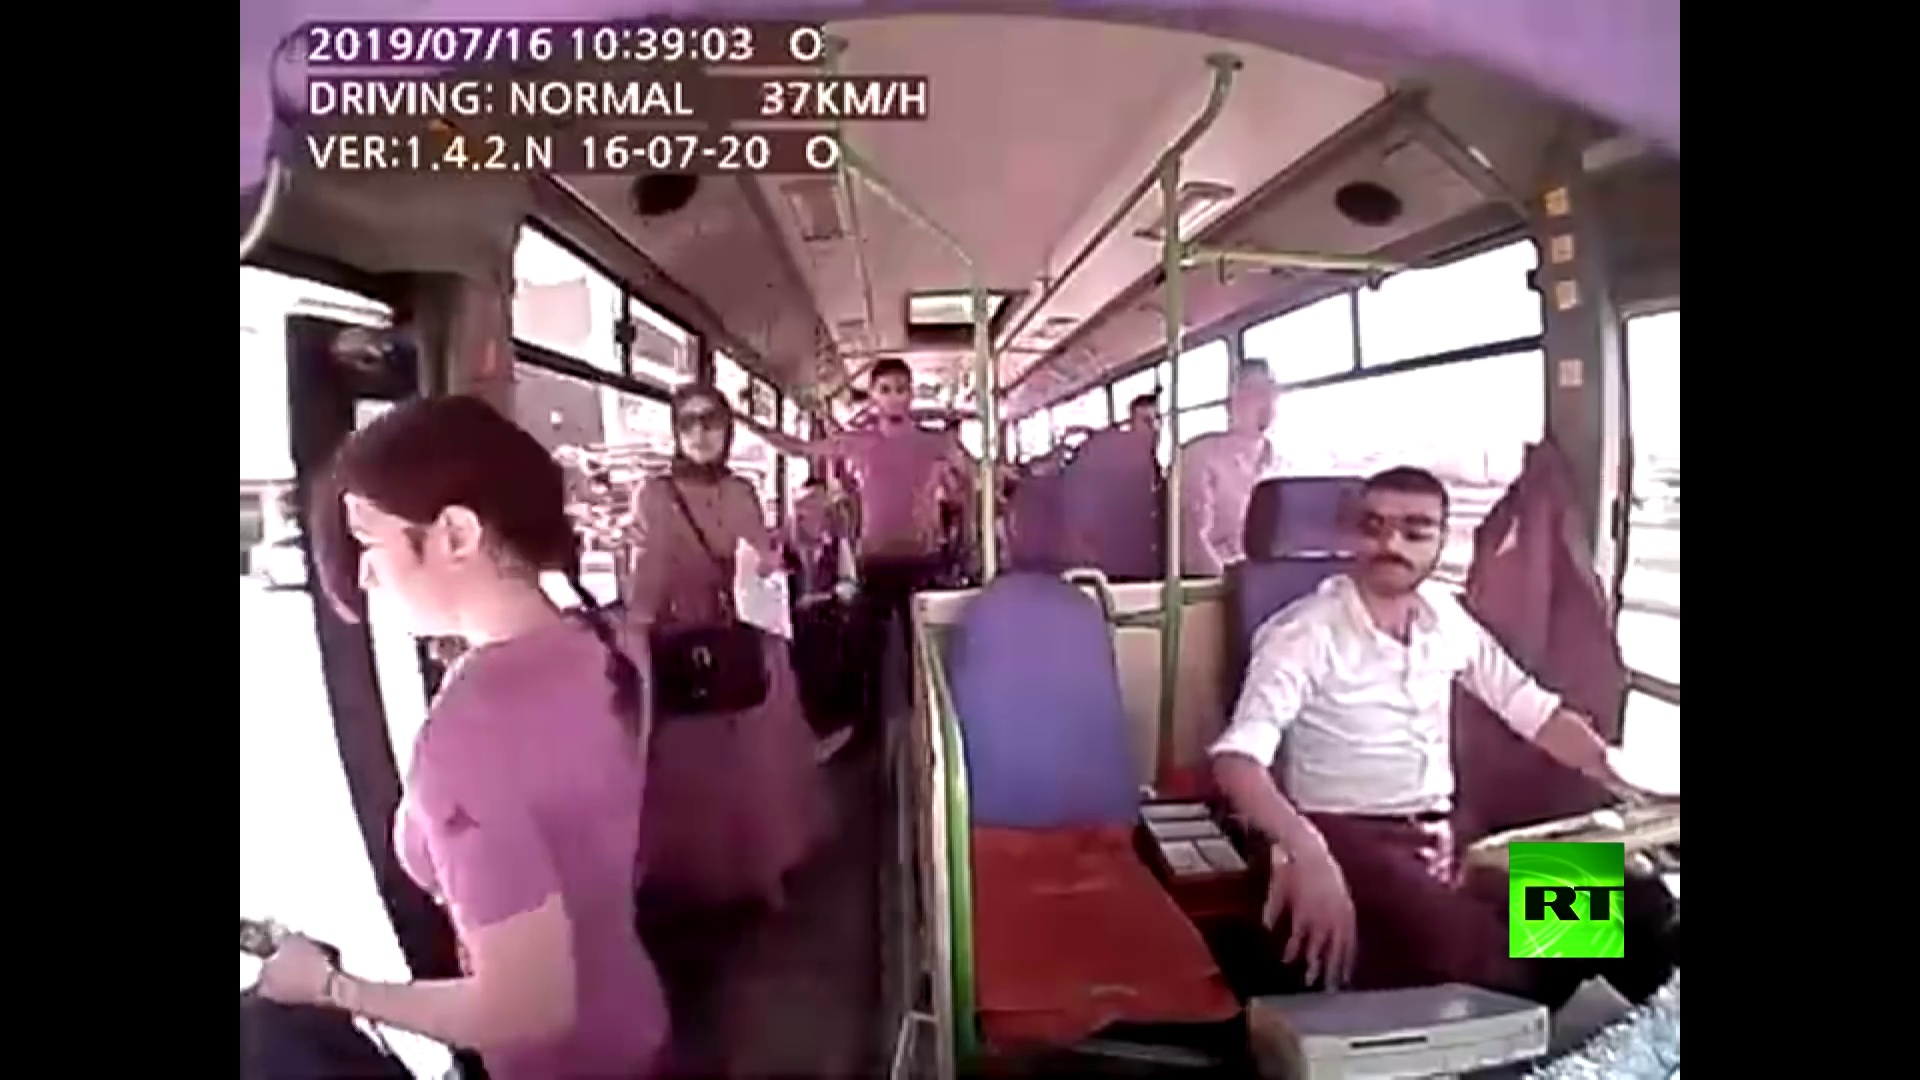face: (355, 460, 453, 648), (1365, 489, 1434, 583), (676, 397, 725, 469), (869, 374, 911, 417)
